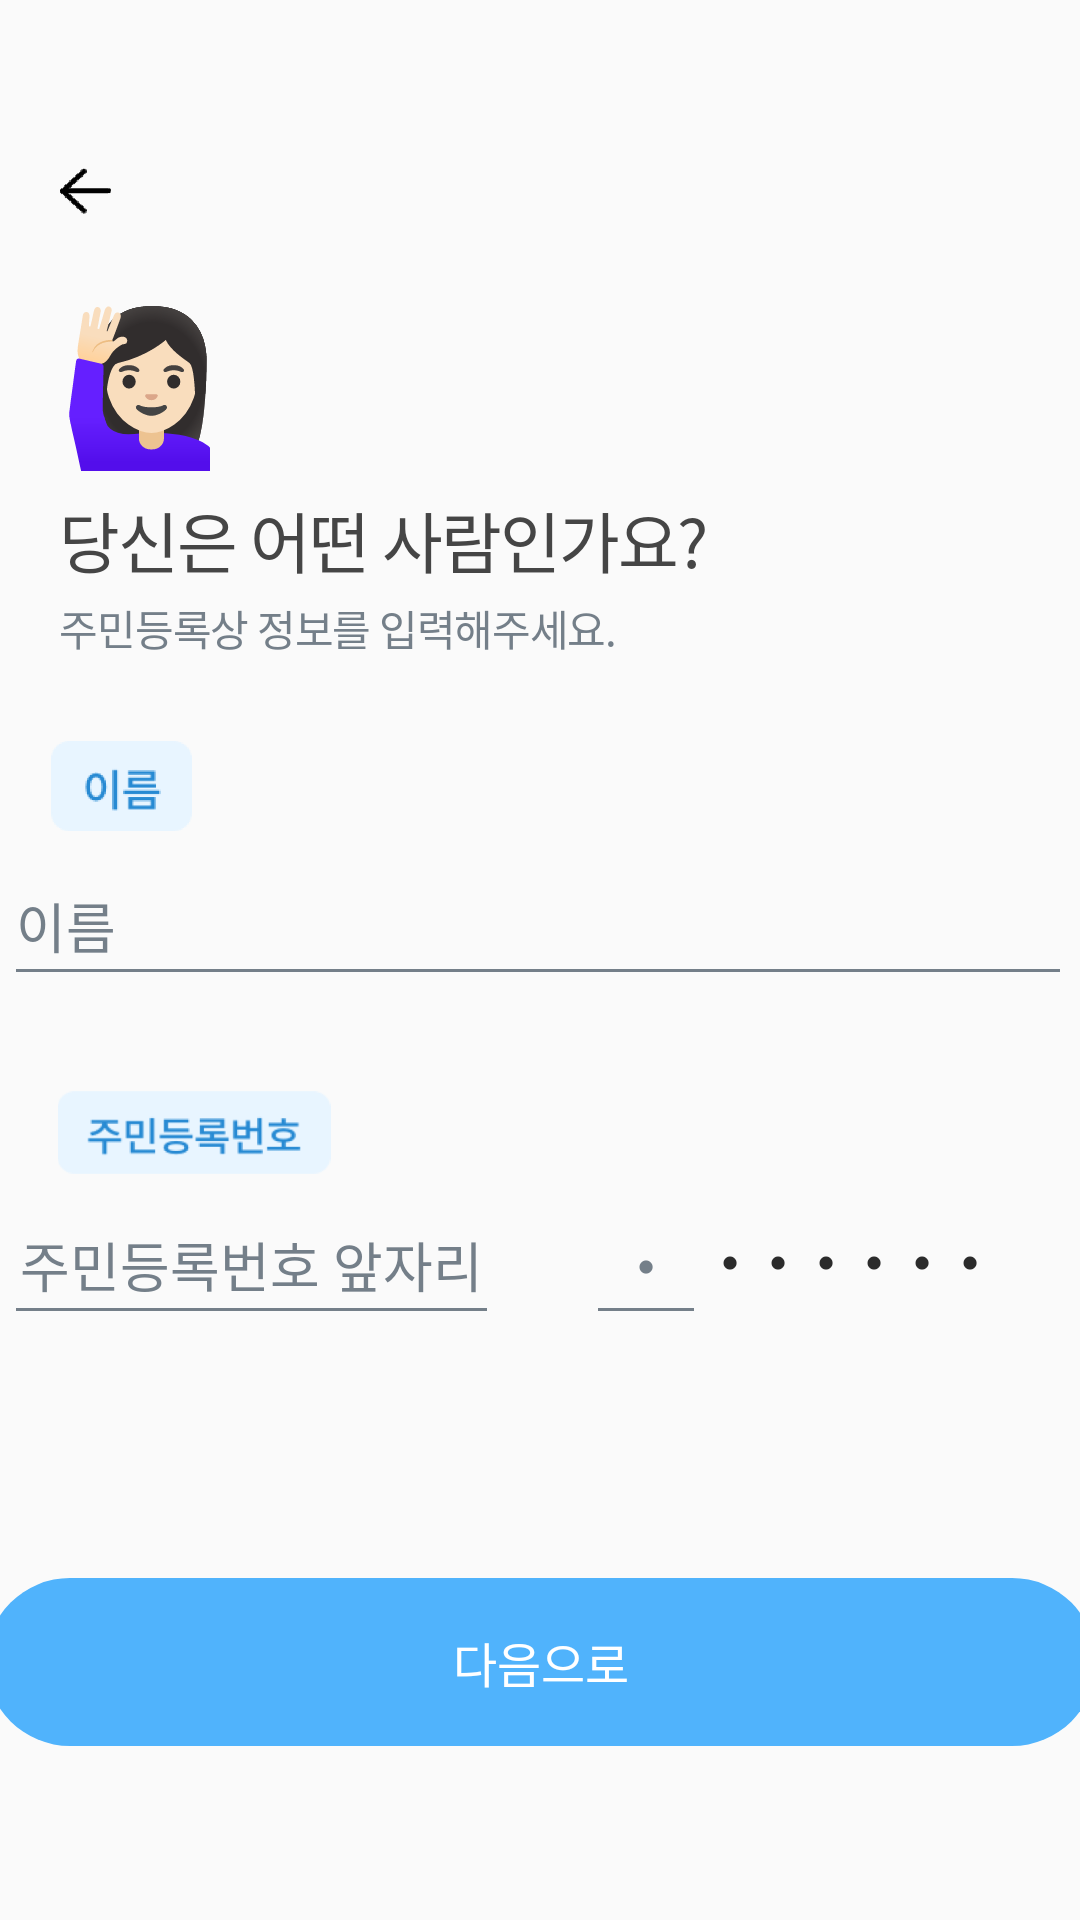

Where icons sit on this 1080px×1920px app screen, as [x1,y1,x2,y2]:
before: [60,168,111,214]
